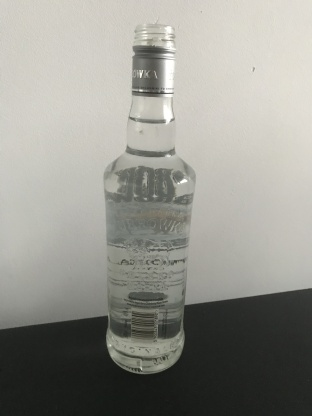nakretka: (129, 19, 177, 98)
